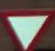Give way: (3, 5, 50, 50)
